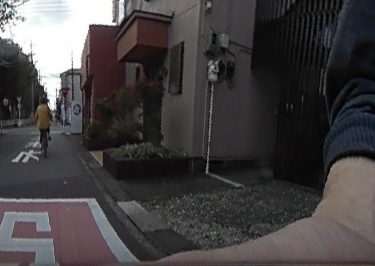person: (34, 95, 53, 151)
